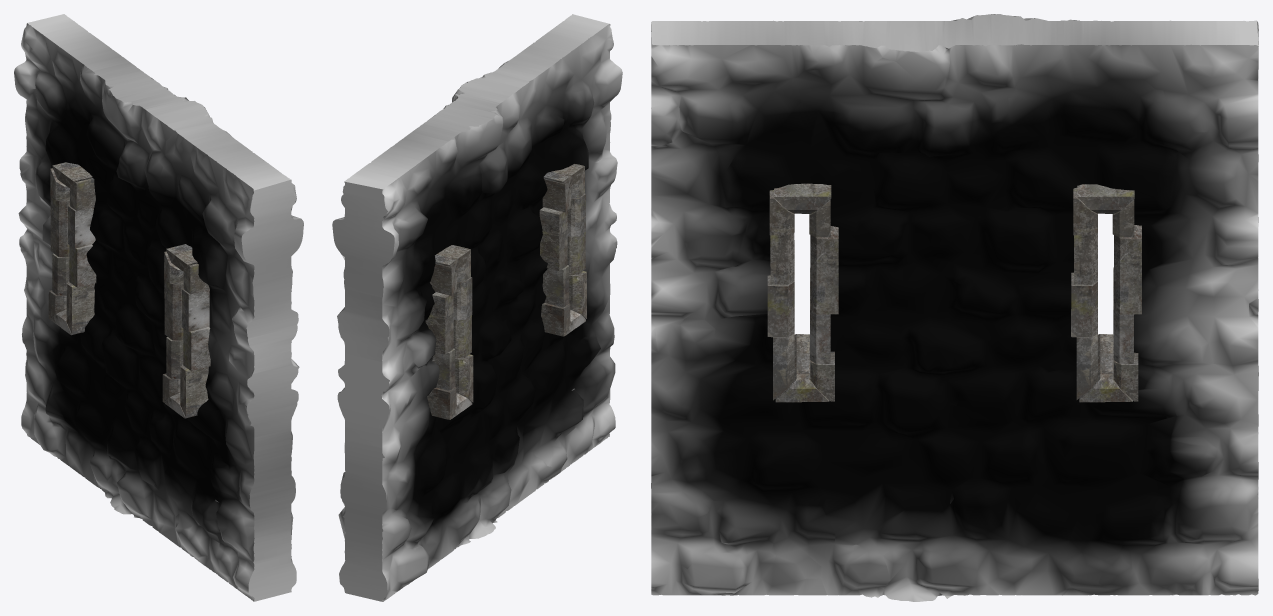
File: SM_CastleTower_Window_A_13.fbx
The picture shows the model from 3 angles, left to right: view 1: azimuth 30°, elevation 25°; view 2: azimuth 150°, elevation 25°; view 3: azimuth 270°, elevation 25°; orthographic projection. The views are drawn at different scales.
Parts seen in each view (by area): view 1: SM_CastleTower_Window_A_13_LOD0; view 2: SM_CastleTower_Window_A_13_LOD0; view 3: SM_CastleTower_Window_A_13_LOD0.
Part boxes in pixels (x1=…): SM_CastleTower_Window_A_13_LOD0: x1=14, y1=14, x2=303, y2=601; SM_CastleTower_Window_A_13_LOD0: x1=332, y1=14, x2=622, y2=601; SM_CastleTower_Window_A_13_LOD0: x1=651, y1=14, x2=1258, y2=601.
Bounding box in the file's own units: 82.25 × 401 × 401.
